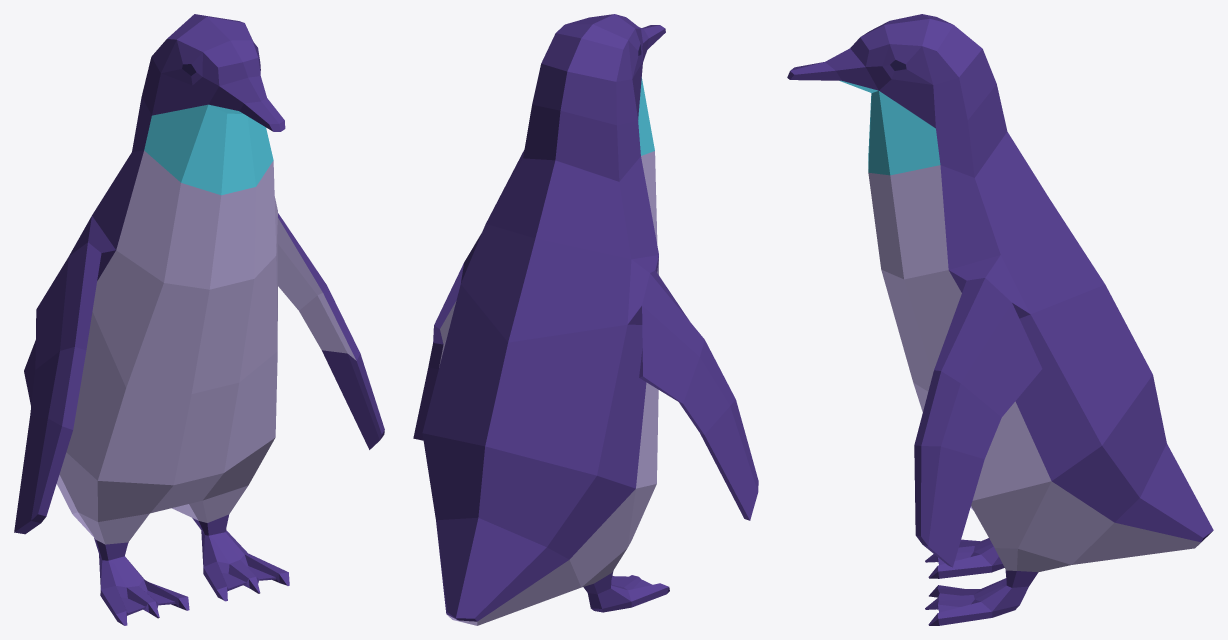
The model's file is 031_penguin.fbx.
3 views of the same model, side by side, from view 1: azimuth 30°, elevation 25°; view 2: azimuth 150°, elevation 25°; view 3: azimuth 270°, elevation 25° (orthographic). The views are drawn at different scales.
Visible parts, largest first — view 1: PENGUIN; view 2: PENGUIN; view 3: PENGUIN.
Part boxes in pixels (box(x1,y1,x2,y2)): PENGUIN: box(14, 14, 384, 625); PENGUIN: box(413, 14, 758, 625); PENGUIN: box(787, 14, 1213, 625).
Size of the model in its own units: 64.62 by 101 by 68.4.
